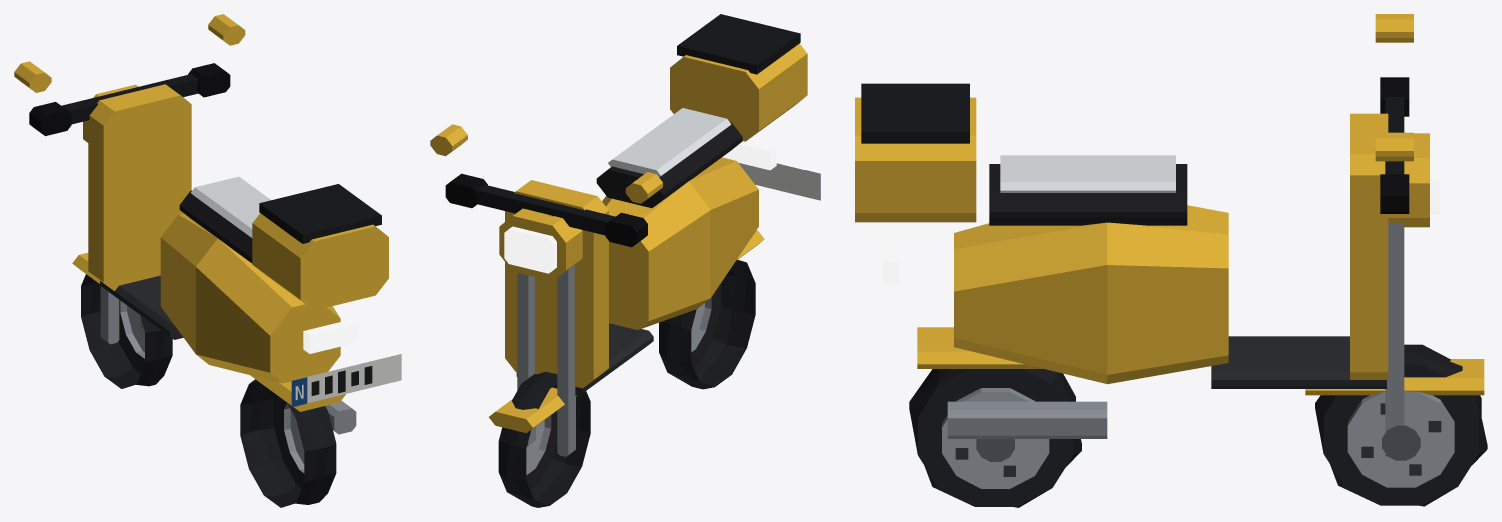
File: moped.glb
3 renders of one model, left to right at view 1: azimuth 30°, elevation 25°; view 2: azimuth 150°, elevation 25°; view 3: azimuth 270°, elevation 25°, orthographic. The views are drawn at different scales.
Visible parts, largest first — view 1: body.003, wheel_R, fork, wheel_F; view 2: body.003, fork, wheel_R, wheel_F; view 3: body.003, wheel_F, wheel_R, fork.
Part boxes in pixels (x1=…): body.003: x1=88, y1=84, x2=401, y2=434; wheel_R: x1=240, y1=379, x2=336, y2=507; fork: x1=14, y1=14, x2=245, y2=344; wheel_F: x1=81, y1=274, x2=172, y2=388; body.003: x1=505, y1=14, x2=820, y2=396; fork: x1=430, y1=124, x2=662, y2=456; wheel_R: x1=659, y1=259, x2=755, y2=389; wheel_F: x1=498, y1=372, x2=590, y2=507; body.003: x1=855, y1=83, x2=1388, y2=438; wheel_F: x1=1315, y1=344, x2=1487, y2=506; wheel_R: x1=909, y1=369, x2=1081, y2=507; fork: x1=1305, y1=14, x2=1484, y2=456.
Size of the model in its own units: 0.98 by 1.48 by 2.
